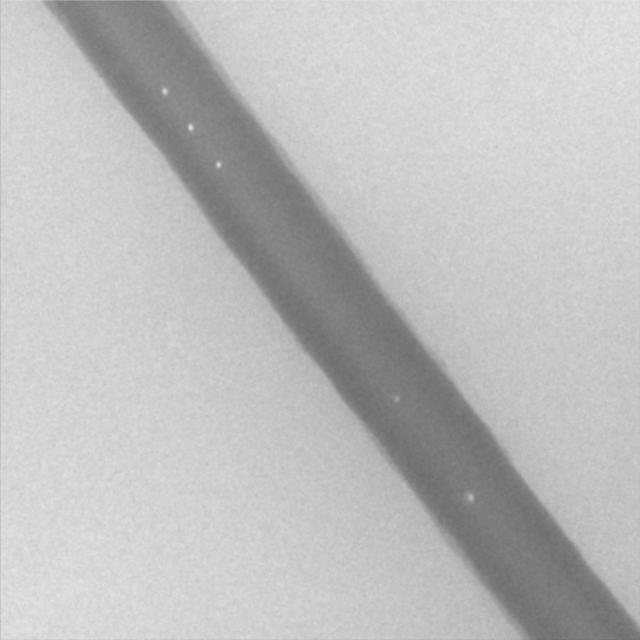air hole: (465, 492, 475, 503), (185, 121, 194, 133), (392, 392, 401, 404), (160, 84, 168, 96), (213, 158, 221, 169)
